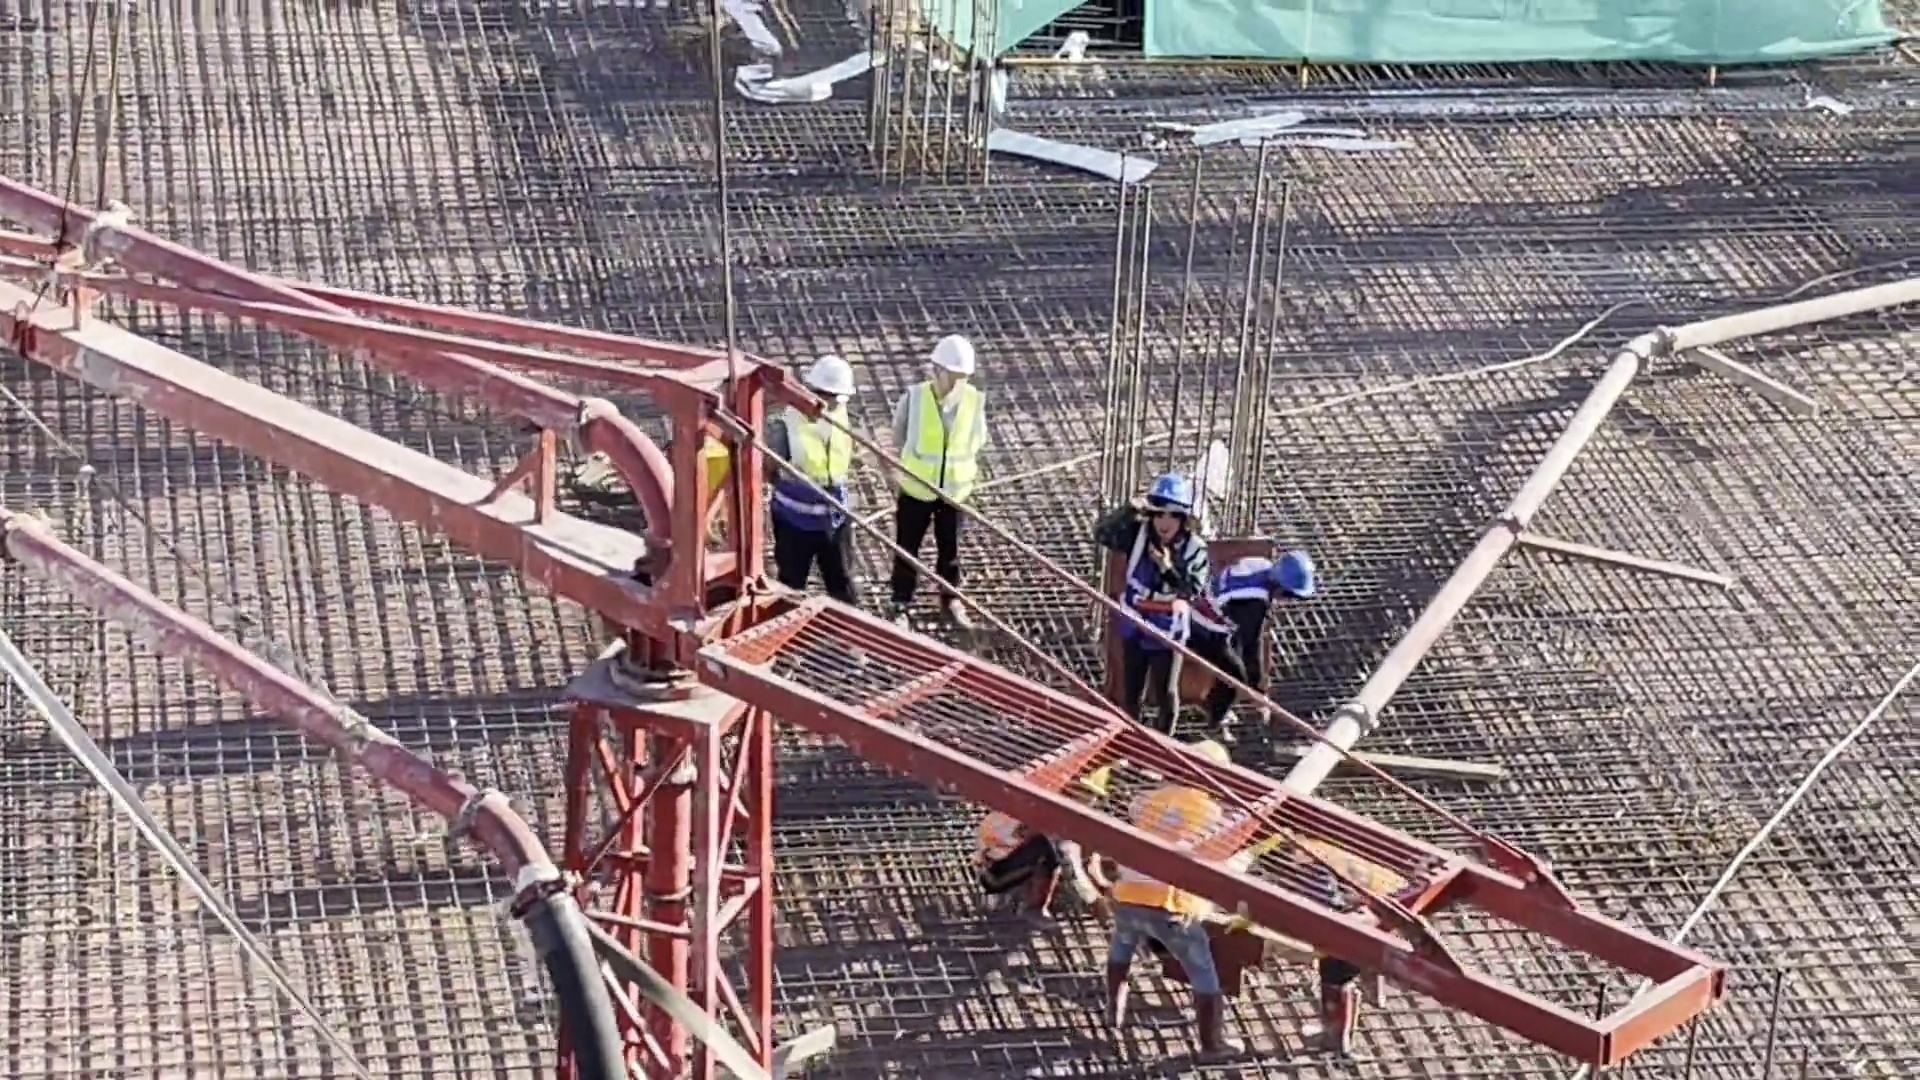helmet: (1270, 548, 1315, 596), (928, 338, 978, 372), (807, 361, 857, 394), (1192, 730, 1235, 765), (1151, 479, 1190, 502)
person: (1093, 724, 1253, 1080), (745, 352, 882, 628), (885, 331, 995, 646), (1089, 460, 1201, 742), (960, 743, 1111, 945), (1181, 534, 1314, 730)
vest: (915, 394, 989, 506), (782, 413, 850, 518), (1124, 529, 1197, 622), (1217, 560, 1288, 641), (1136, 798, 1197, 880), (975, 815, 1017, 857)
